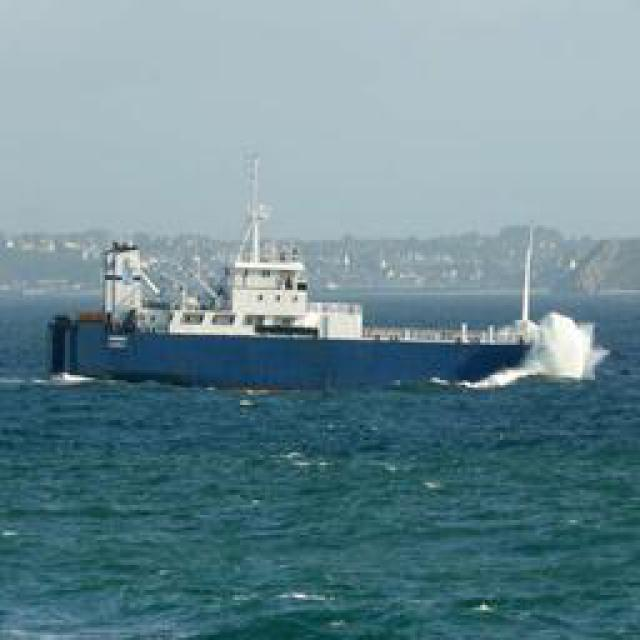Ship: (78, 172, 593, 400)
